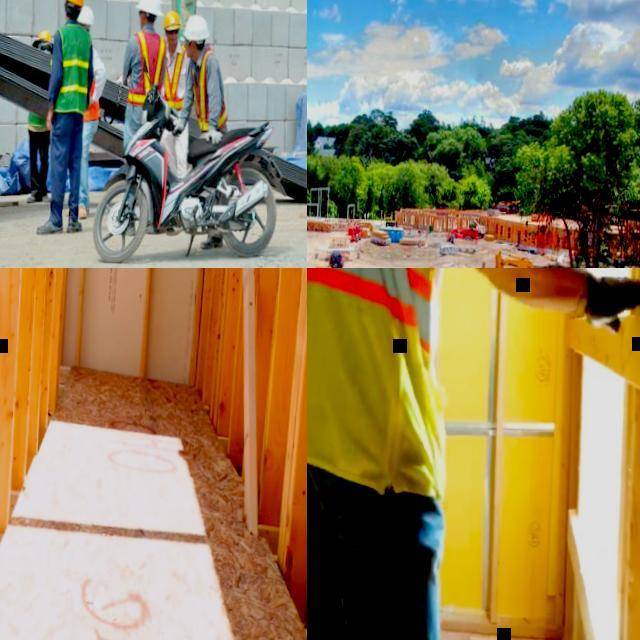helmet: (183, 14, 210, 39), (163, 10, 181, 32), (137, 0, 163, 15), (76, 7, 94, 27), (34, 29, 54, 45)
vest: (307, 268, 511, 504), (188, 45, 232, 134), (54, 22, 92, 112), (125, 29, 166, 106), (26, 49, 52, 133), (160, 40, 189, 110), (83, 74, 102, 122)
